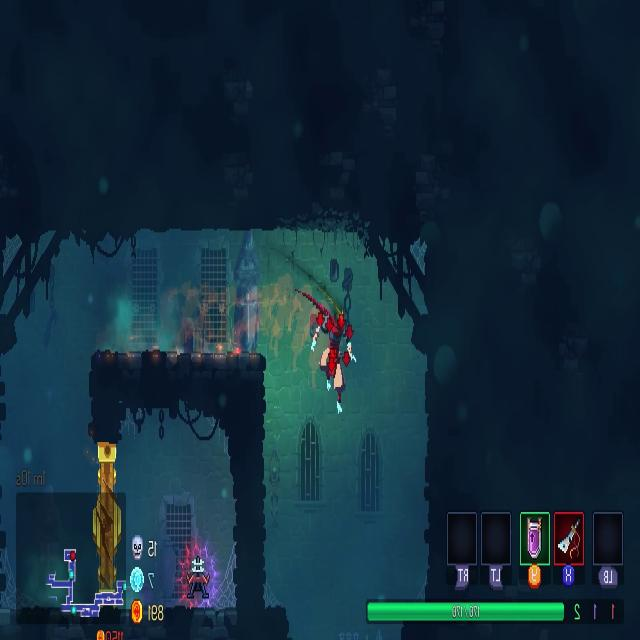agents: (312, 302, 359, 416)
